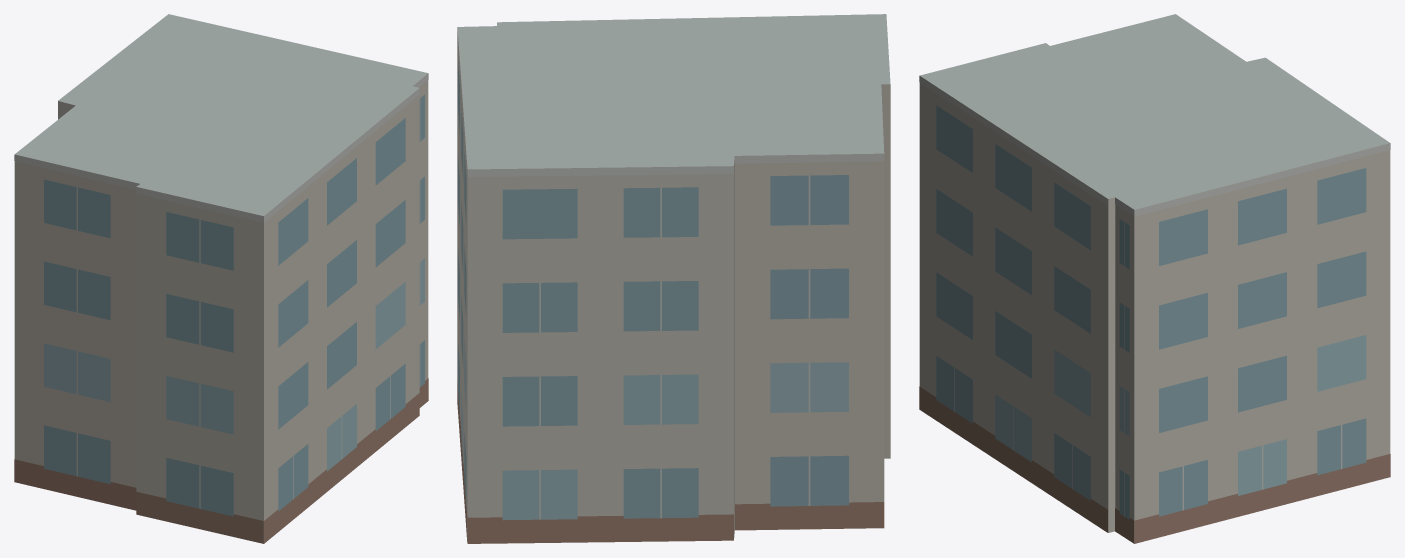
Rendered from survey-upis-32938552.glb.
3 renders of one model, left to right at view 1: azimuth 30°, elevation 25°; view 2: azimuth 150°, elevation 25°; view 3: azimuth 270°, elevation 25°, orthographic. The views are drawn at different scales.
Visible parts, largest first — view 1: survey-upis-32938552.tmp; view 2: survey-upis-32938552.tmp; view 3: survey-upis-32938552.tmp.
Boxes of the visible parts, x1,y1,x2,y2 form: survey-upis-32938552.tmp: (14,14,428,543); survey-upis-32938552.tmp: (457,14,890,543); survey-upis-32938552.tmp: (919,14,1390,543).
Size of the model in its own units: 14.97 by 11.9 by 15.21.
